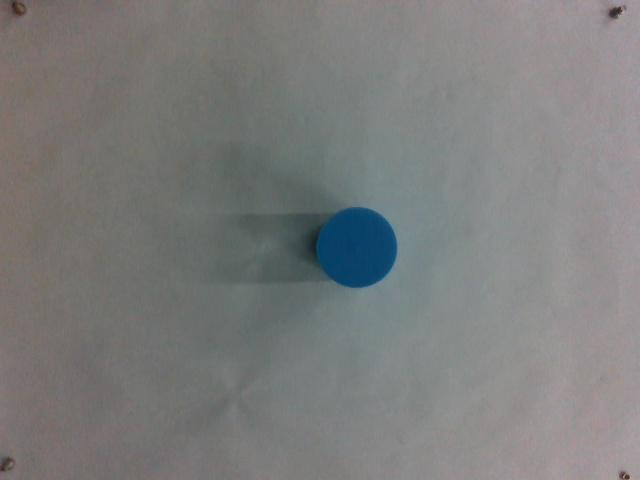cylinder: (310, 203, 400, 291)
